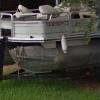Boat: (6, 2, 99, 84)
